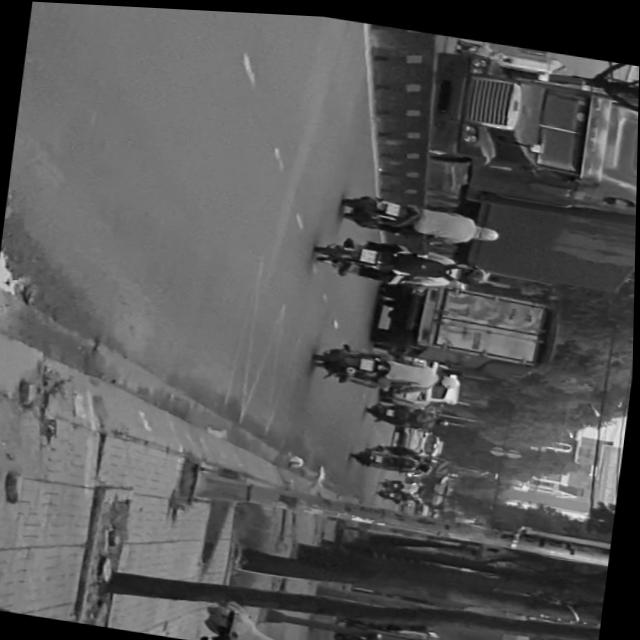helmet: (459, 258, 492, 280)
licenseplate: (312, 224, 495, 292)
nohelmet: (360, 242, 379, 258)
